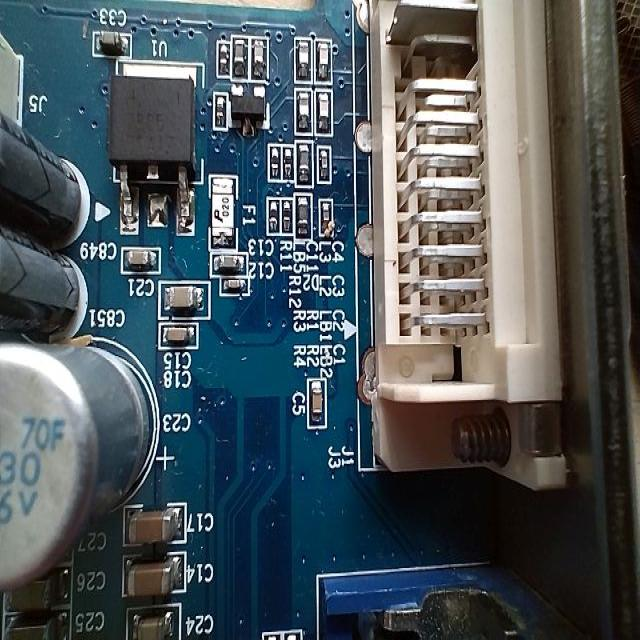capacitor: (118, 547, 191, 603), (119, 503, 193, 554), (155, 279, 218, 322), (154, 319, 210, 350), (305, 375, 331, 436), (118, 242, 162, 278), (120, 244, 162, 274), (211, 248, 248, 279), (209, 254, 249, 278)
resistor: (262, 135, 284, 188), (276, 194, 298, 242), (262, 194, 280, 244), (280, 140, 296, 187)
